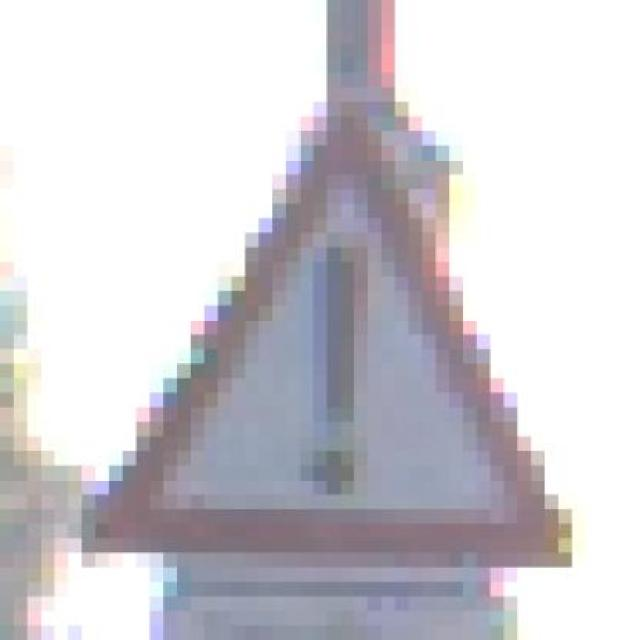Attention Please-: (54, 102, 586, 596)
